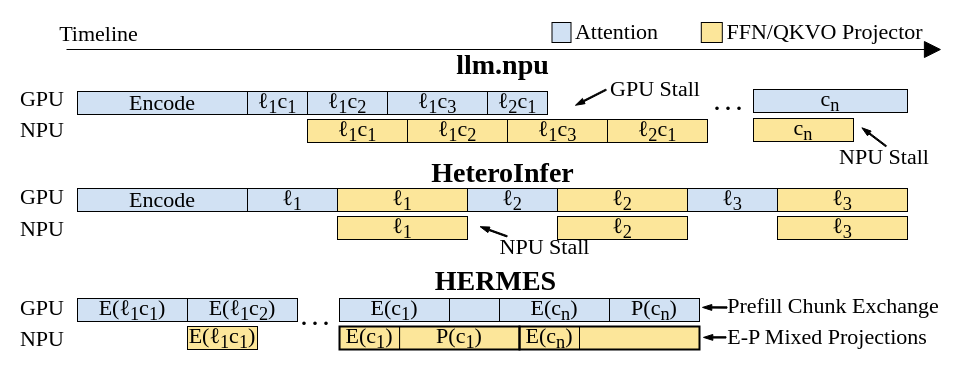
Image size: 976x370. Some labels were removed from this diagram. The shapes that lost their labels are listed below. From the top down, each one's centre as x and y in pixels, then its label:
point (474, 310): P( c 1 )
point (639, 338): P(c n )
